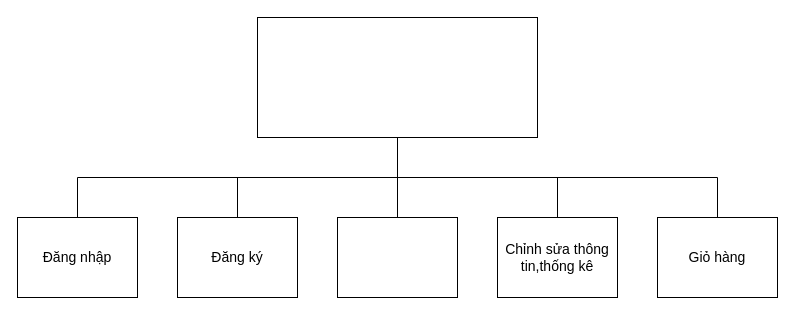
Image size: 795x315. Some labels were removed from this diagram. Each missing label, with the centre of its shape:
Tìm kiếm: point 397,257
Website mua sắm điện thoại trực tuyến: point 397,77
